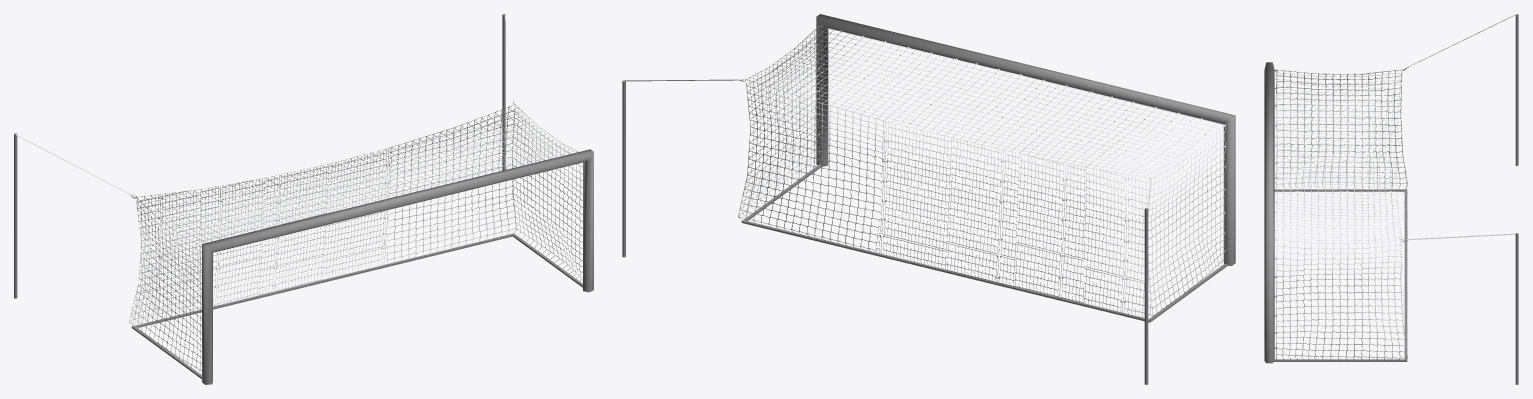
File: porteria.FBX
3 views of the same model, side by side, from view 1: azimuth 30°, elevation 25°; view 2: azimuth 150°, elevation 25°; view 3: azimuth 270°, elevation 25° (orthographic). The views are drawn at different scales.
Visible parts, largest first — view 1: Box002, Cylinder001; view 2: Box002, Cylinder001; view 3: Box002, Cylinder001.
Boxes of the visible parts, x1,y1,x2,y2 form: Box002: [16, 15, 582, 374]; Cylinder001: [14, 14, 593, 384]; Box002: [625, 25, 1225, 320]; Cylinder001: [622, 14, 1235, 384]; Box002: [1274, 14, 1515, 360]; Cylinder001: [1264, 14, 1518, 384].
Size of the model in its own units: 9.56 by 3.05 by 4.66.
